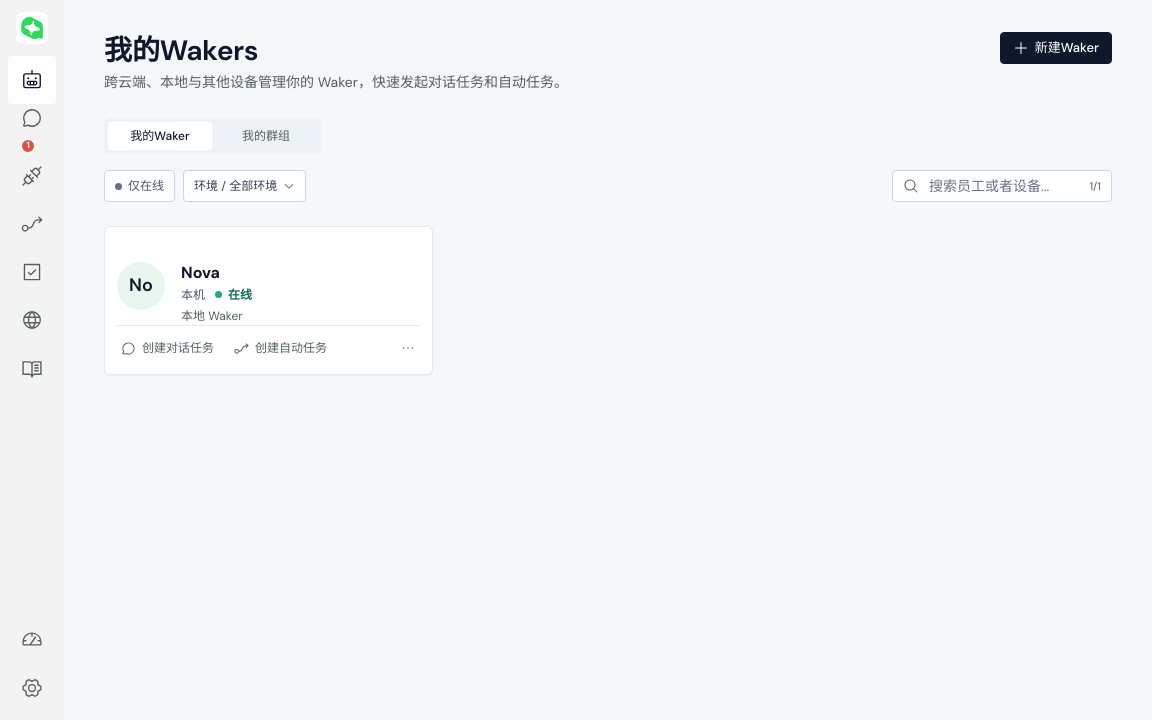
App 会话视图 › 挂载后加载工作区并拉取收件箱（未读徽标来自 unreadCount）
Expected: the heading "我的Wakers" is shown, [104, 32, 258, 69]
Step 1. Click the button named "Chat" → [32, 128], box [8, 104, 56, 152]
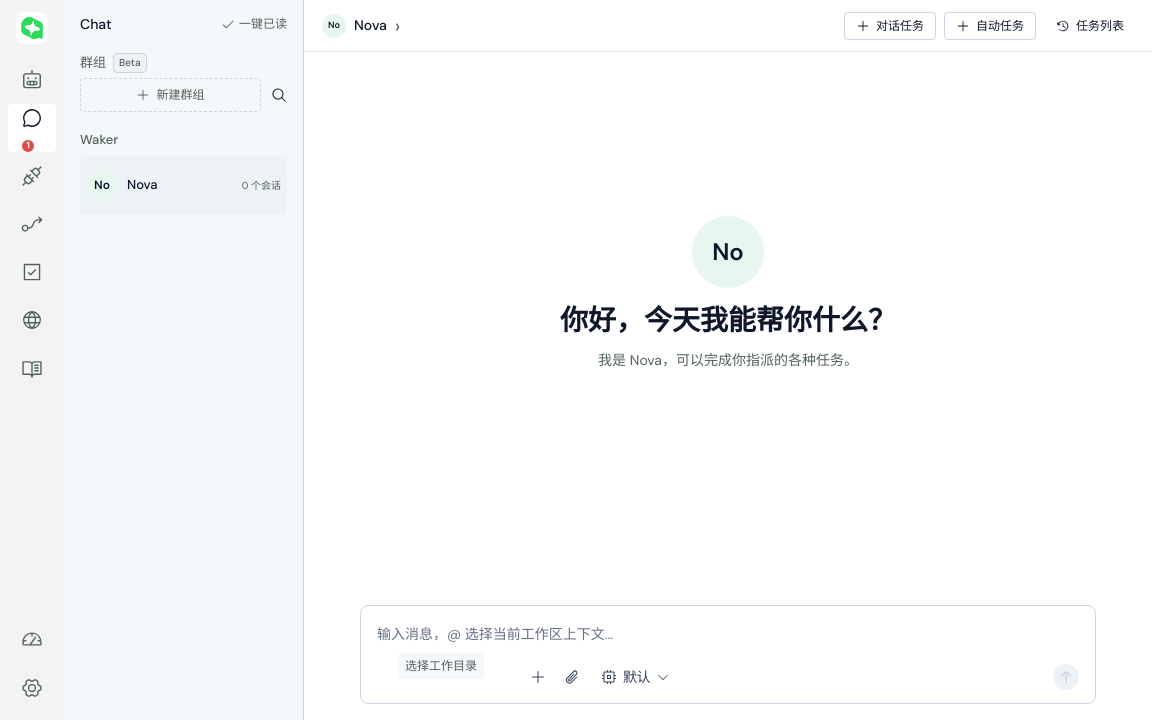
Expected: the element named "Chat 会话" is shown, [64, 0, 304, 719]
Expected: the option "No Nova 0 个会话" is shown, [80, 156, 287, 214]
